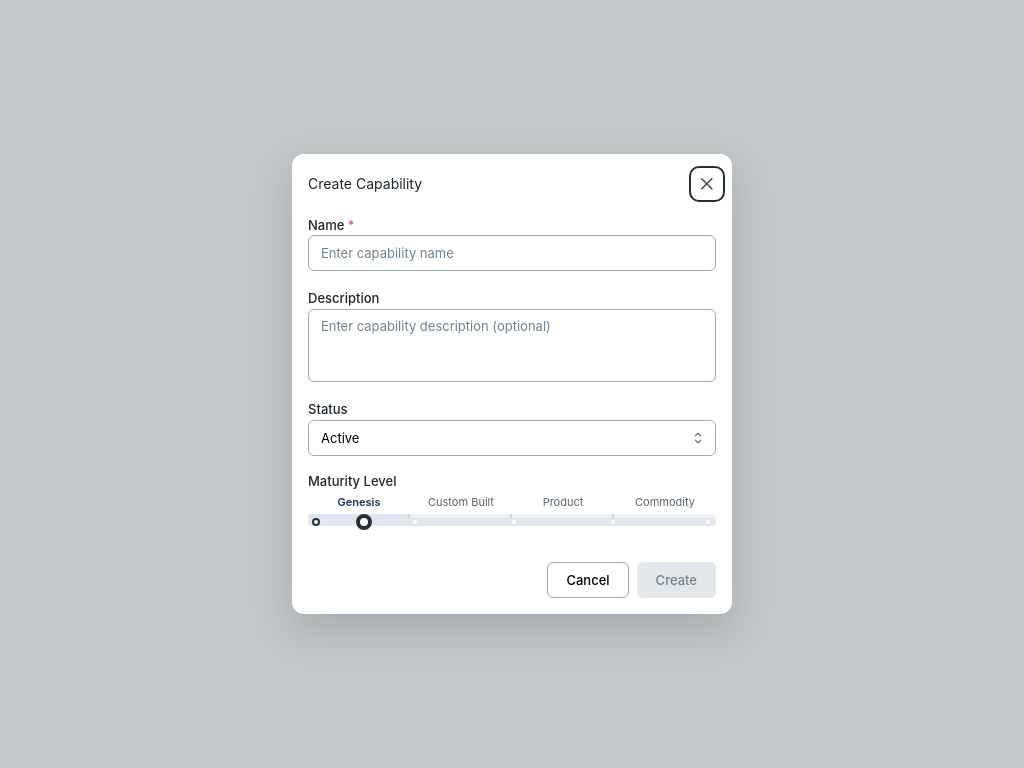
Scenario: CreateCapabilityDialog › Error handling › shows rejects with an Error as backend error
Check: the element with test id "maturity-slider" is shown, box x1=308 y1=514 x2=716 y2=530
Type "Test Capability" into the field with test id "capability-name-input" at (512, 253), box x1=308 y1=235 x2=716 y2=271
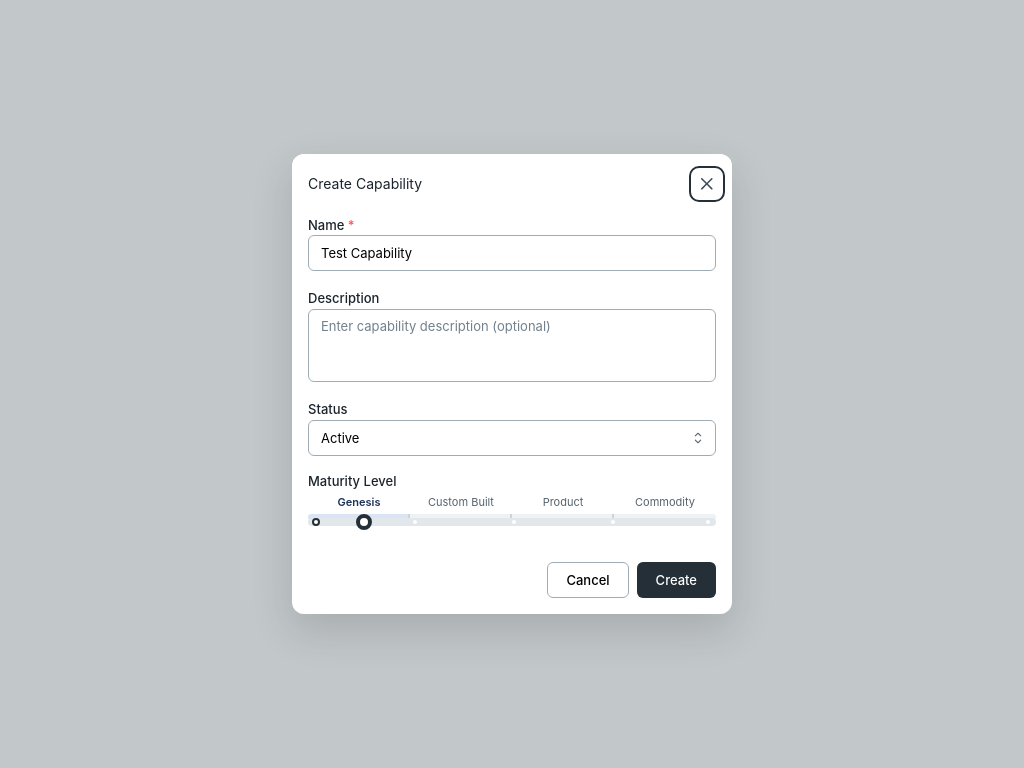
Check: the button with test id "create-capability-submit" is enabled
Click the button with test id "create-capability-submit" at (676, 580), box x1=637 y1=562 x2=716 y2=598
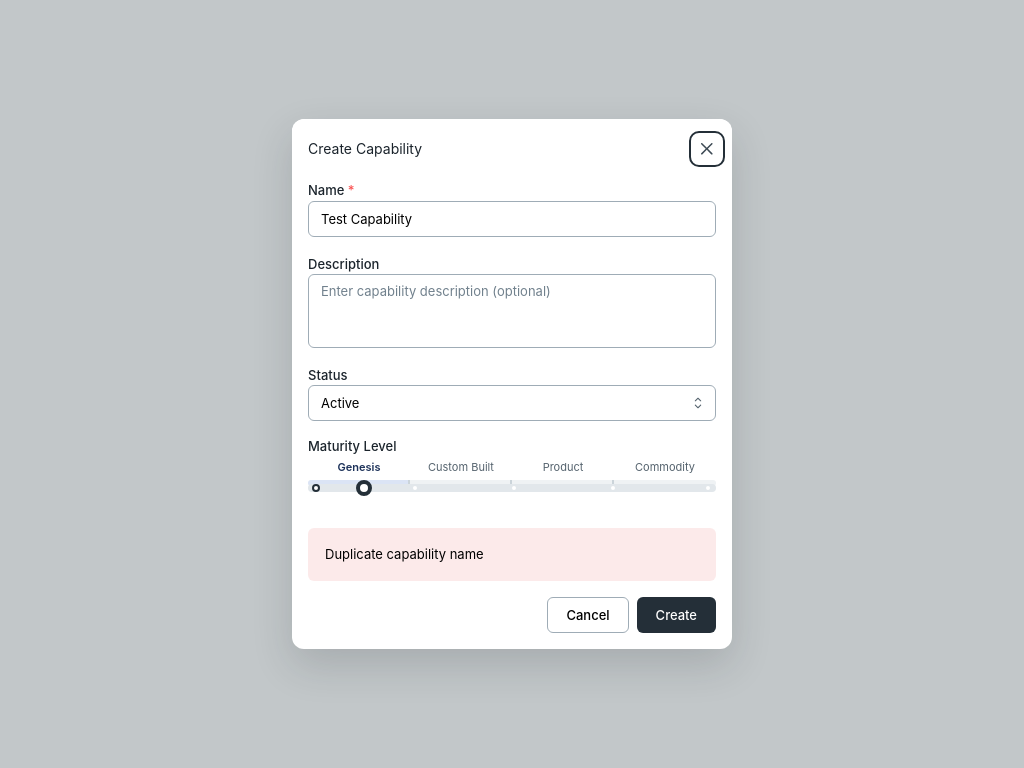
Check: the message with test id "create-capability-error" reads "Duplicate capability name", box x1=325 y1=546 x2=484 y2=562
